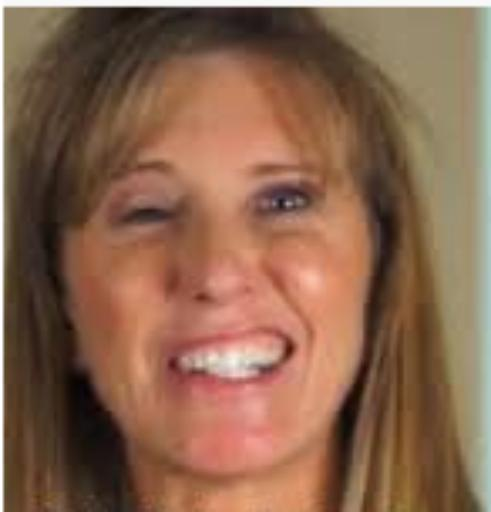left_eye: (248, 183, 316, 220)
left_lip_corner: (280, 331, 313, 360)
right_eye: (117, 204, 178, 233)
right_lip_corner: (157, 347, 194, 378)
